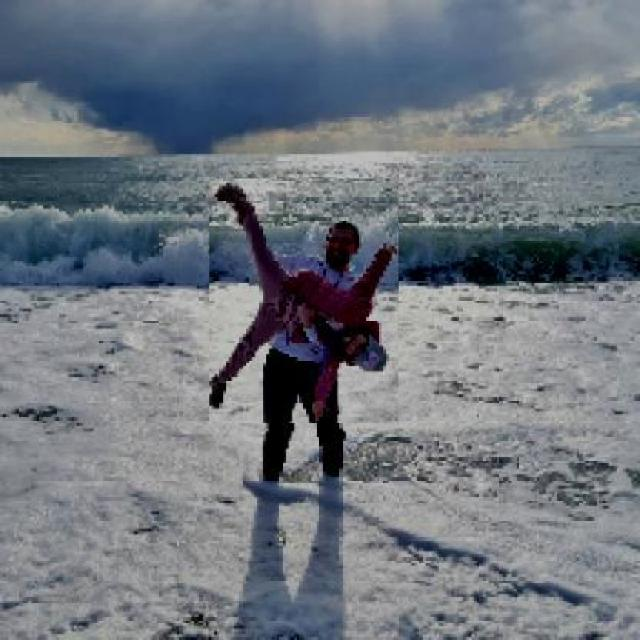child: (208, 178, 398, 424)
